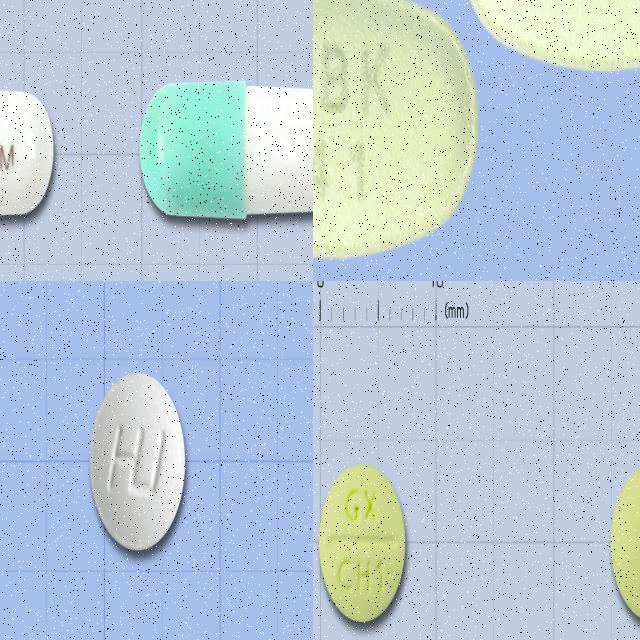Huloxacin: (90, 371, 187, 552)
Imuran: (318, 462, 407, 622), (611, 462, 640, 623)
Lathrocin: (313, 0, 479, 257)
Viramid Cap-200mg: (141, 77, 313, 223), (0, 80, 55, 225)
